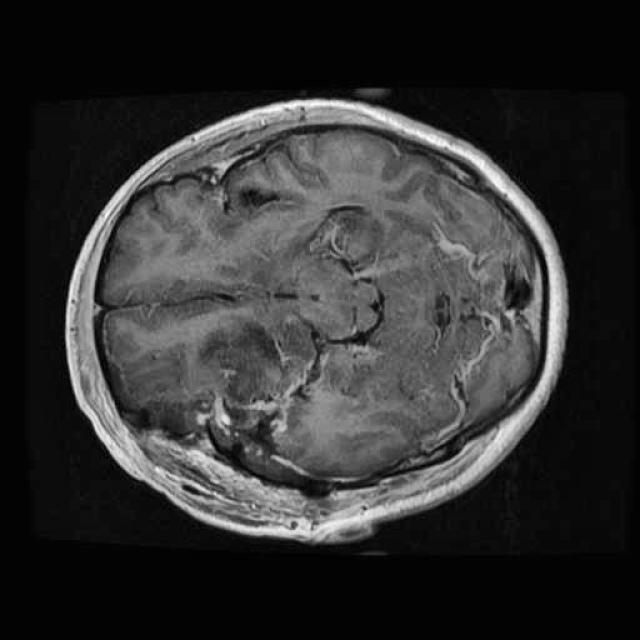Tumor: (189, 306, 320, 480)
